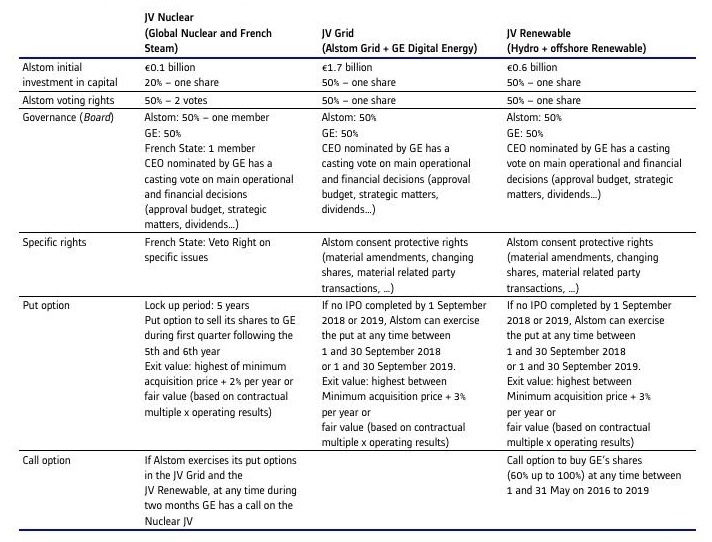table: (0, 0, 712, 542)
